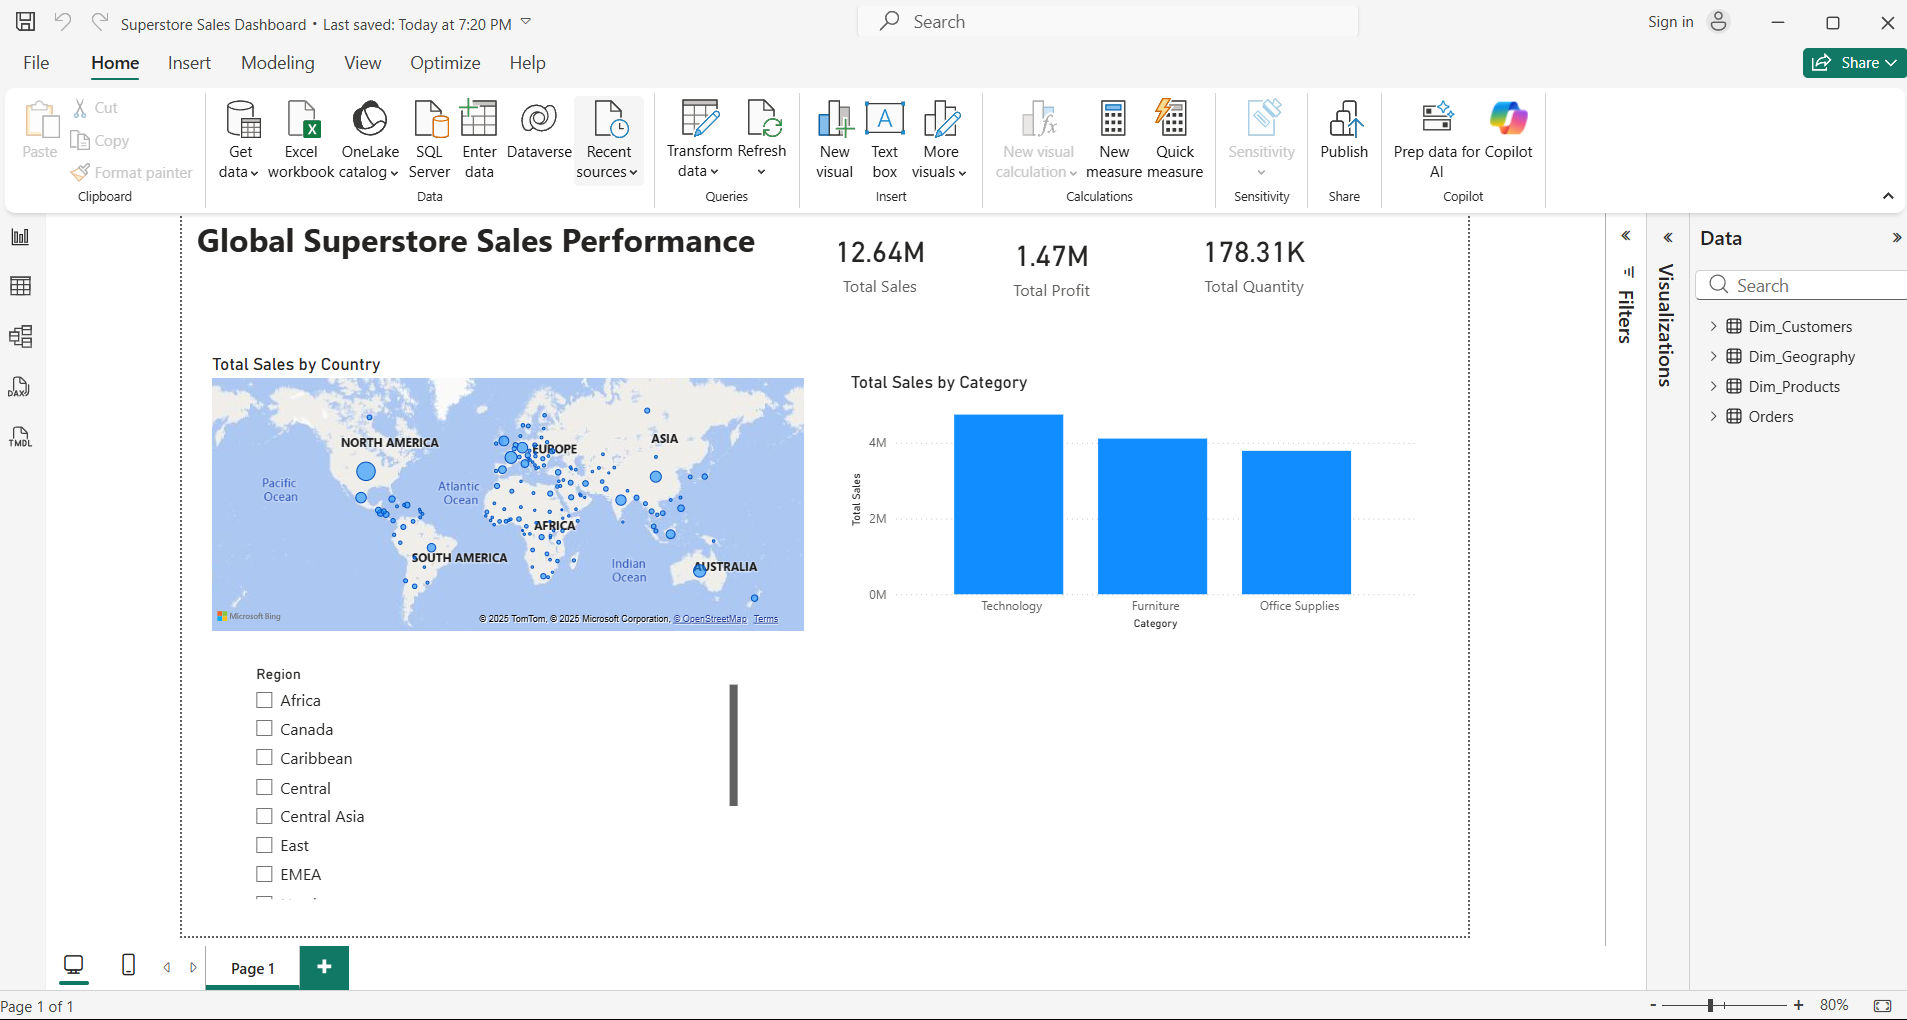

This screenshot's page, from the dashboard's own definition file:
{"tool":"powerbi","page":{"name":"Page 1","canvas":[1280,720],"ordinal":0},"visuals":[{"type":"textbox","box":[9.6,0,598.3,279.9],"z":0},{"type":"card","fields":{"Values":["Orders.Total Sales"]},"box":[607.9,0,172.9,96.1],"z":1000},{"type":"card","fields":{"Values":["Orders.Total Quantity"]},"box":[996.2,0,141.3,96.1],"z":2000},{"type":"card","fields":{"Values":["Orders.Total Profit"]},"box":[780.8,6.9,168.8,89.2],"z":3000},{"type":"columnChart","fields":{"Category":["Dim_Products.Category"],"Y":["Orders.Total Sales"]},"box":[660,158.6,571.4,261.4],"z":4000},{"type":"map","fields":{"Category":["Dim_Geography.Country"],"Size":["Orders.Total Sales"]},"box":[24.3,140,598.6,280],"z":5000},{"type":"slicer","fields":{"Values":["Dim_Geography.Region"]},"box":[61.4,445.7,497.1,242.9],"z":6000}]}

Visuals, with their boxes on the page's 1280x720 design canvas (x1, y1, x2, y2). These are canvas units, not pixel positions in the 1907x1020 screenshot, which may show the page scaled, cropped or inside an application window:
textbox: <region>10, 0, 608, 280</region>
card - Orders.Total Sales: <region>608, 0, 781, 96</region>
card - Orders.Total Quantity: <region>996, 0, 1138, 96</region>
card - Orders.Total Profit: <region>781, 7, 950, 96</region>
columnChart - Dim_Products.Category x Orders.Total Sales: <region>660, 159, 1231, 420</region>
map - Dim_Geography.Country x Orders.Total Sales: <region>24, 140, 623, 420</region>
slicer - Dim_Geography.Region: <region>61, 446, 558, 689</region>
